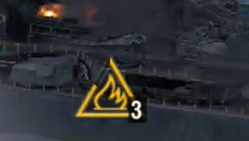3fire: (73, 82, 147, 123)
